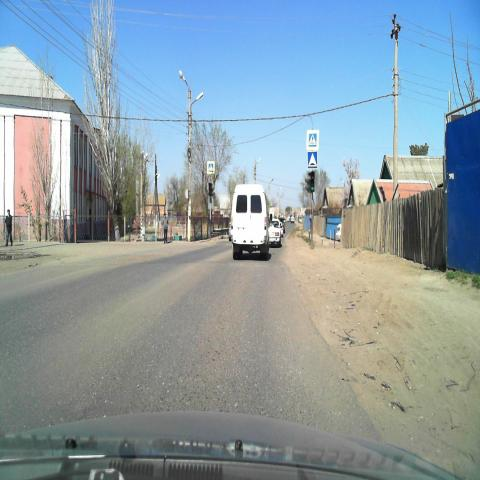5_19_1: (306, 130, 320, 150)
